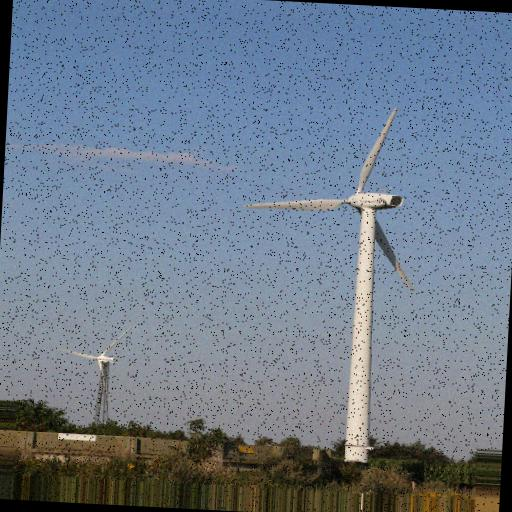wind turbine: (244, 105, 412, 457), (59, 324, 136, 423)
